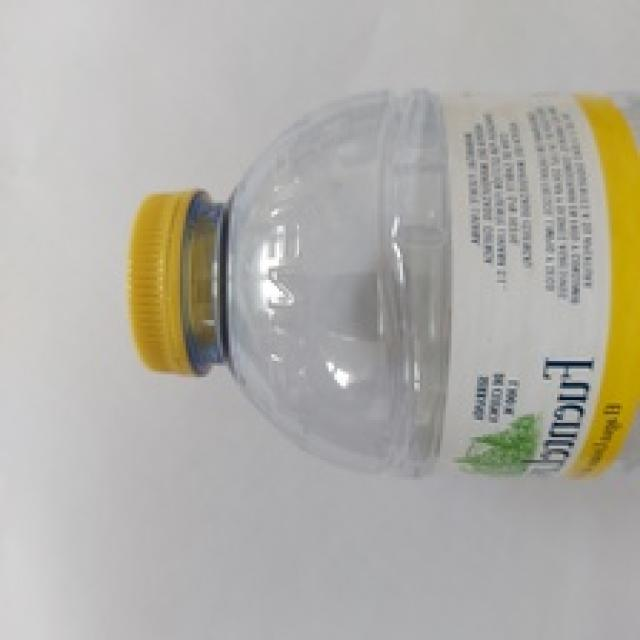plastic: (110, 0, 640, 525)
